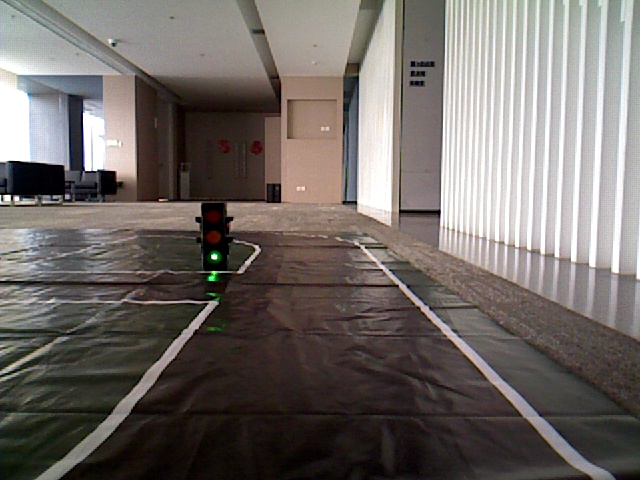green: (203, 204, 228, 264)
